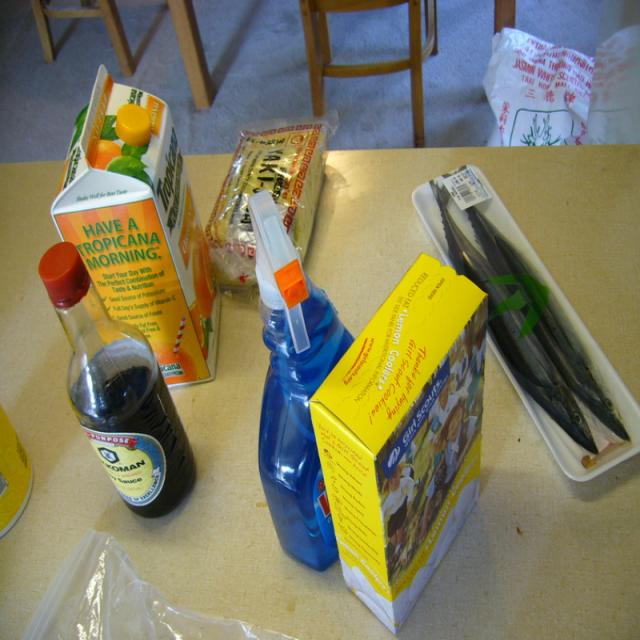container -bottle - box: (412, 166, 639, 482), (311, 254, 487, 632), (52, 67, 219, 383), (39, 243, 195, 517), (248, 190, 352, 570), (259, 280, 351, 570), (205, 112, 337, 293), (483, 28, 594, 146), (587, 0, 639, 143), (0, 406, 33, 537)
